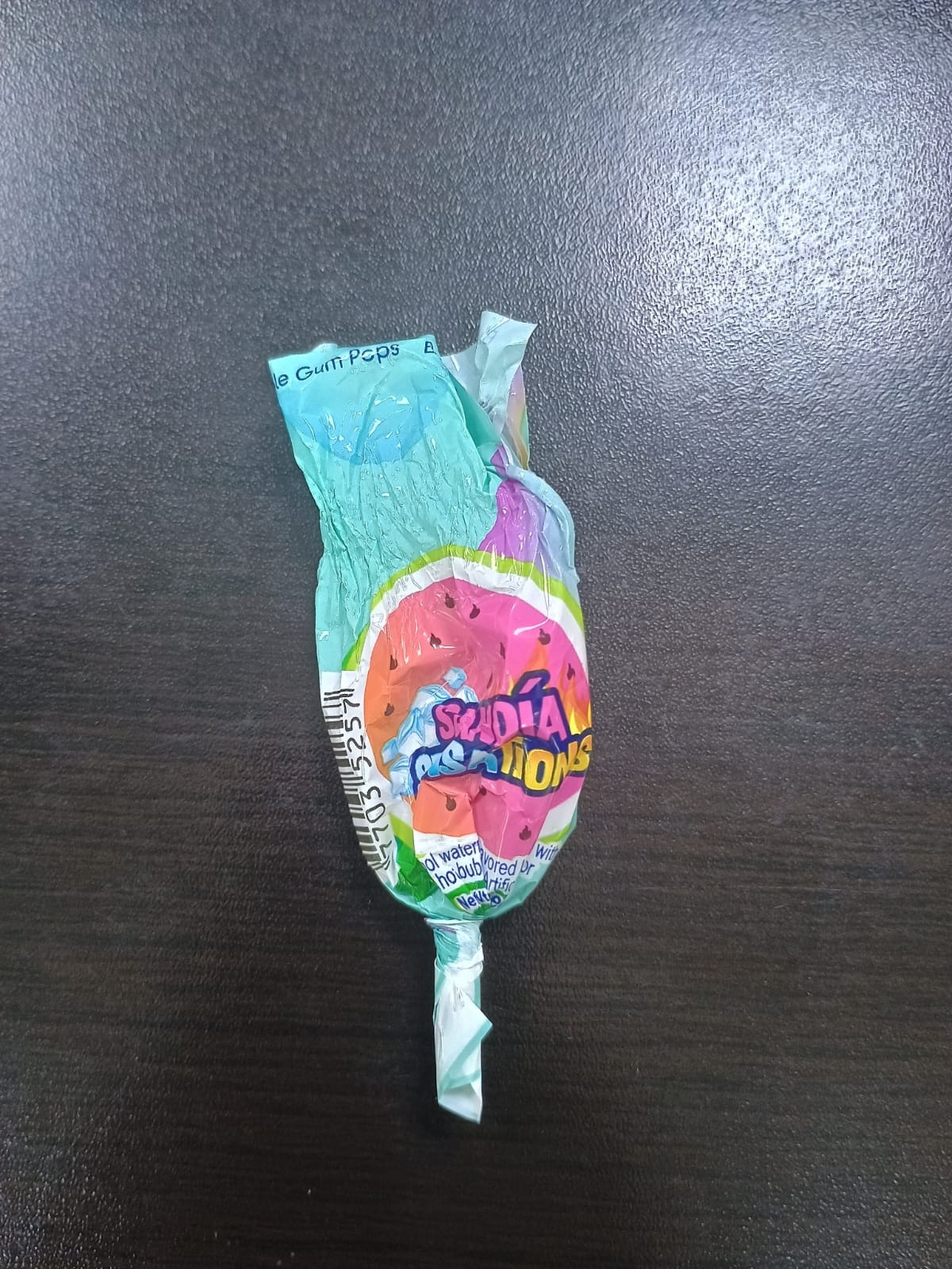Ordinario: (260, 311, 598, 1127)
